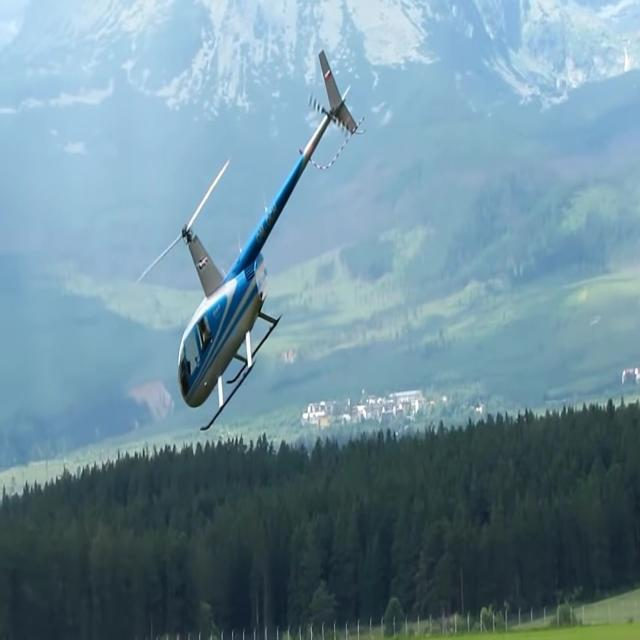CIV_HELO: (175, 47, 358, 434)
